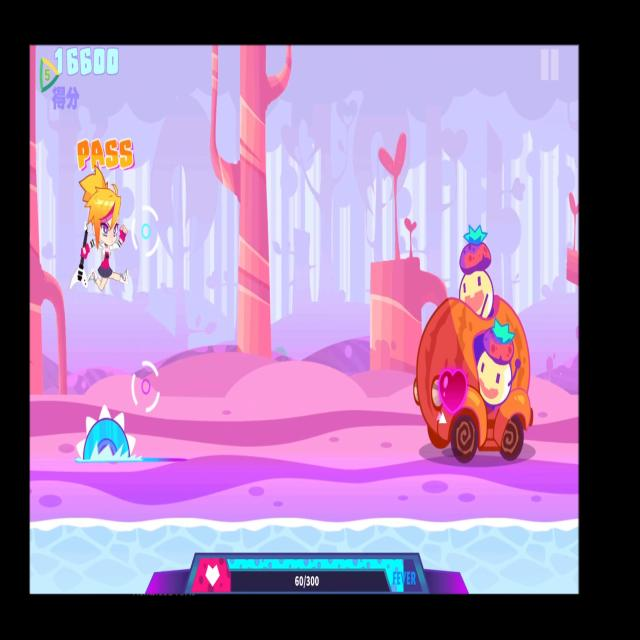Sky Monster - Gear: (74, 401, 143, 467)
incentive-heart: (438, 359, 469, 419)
